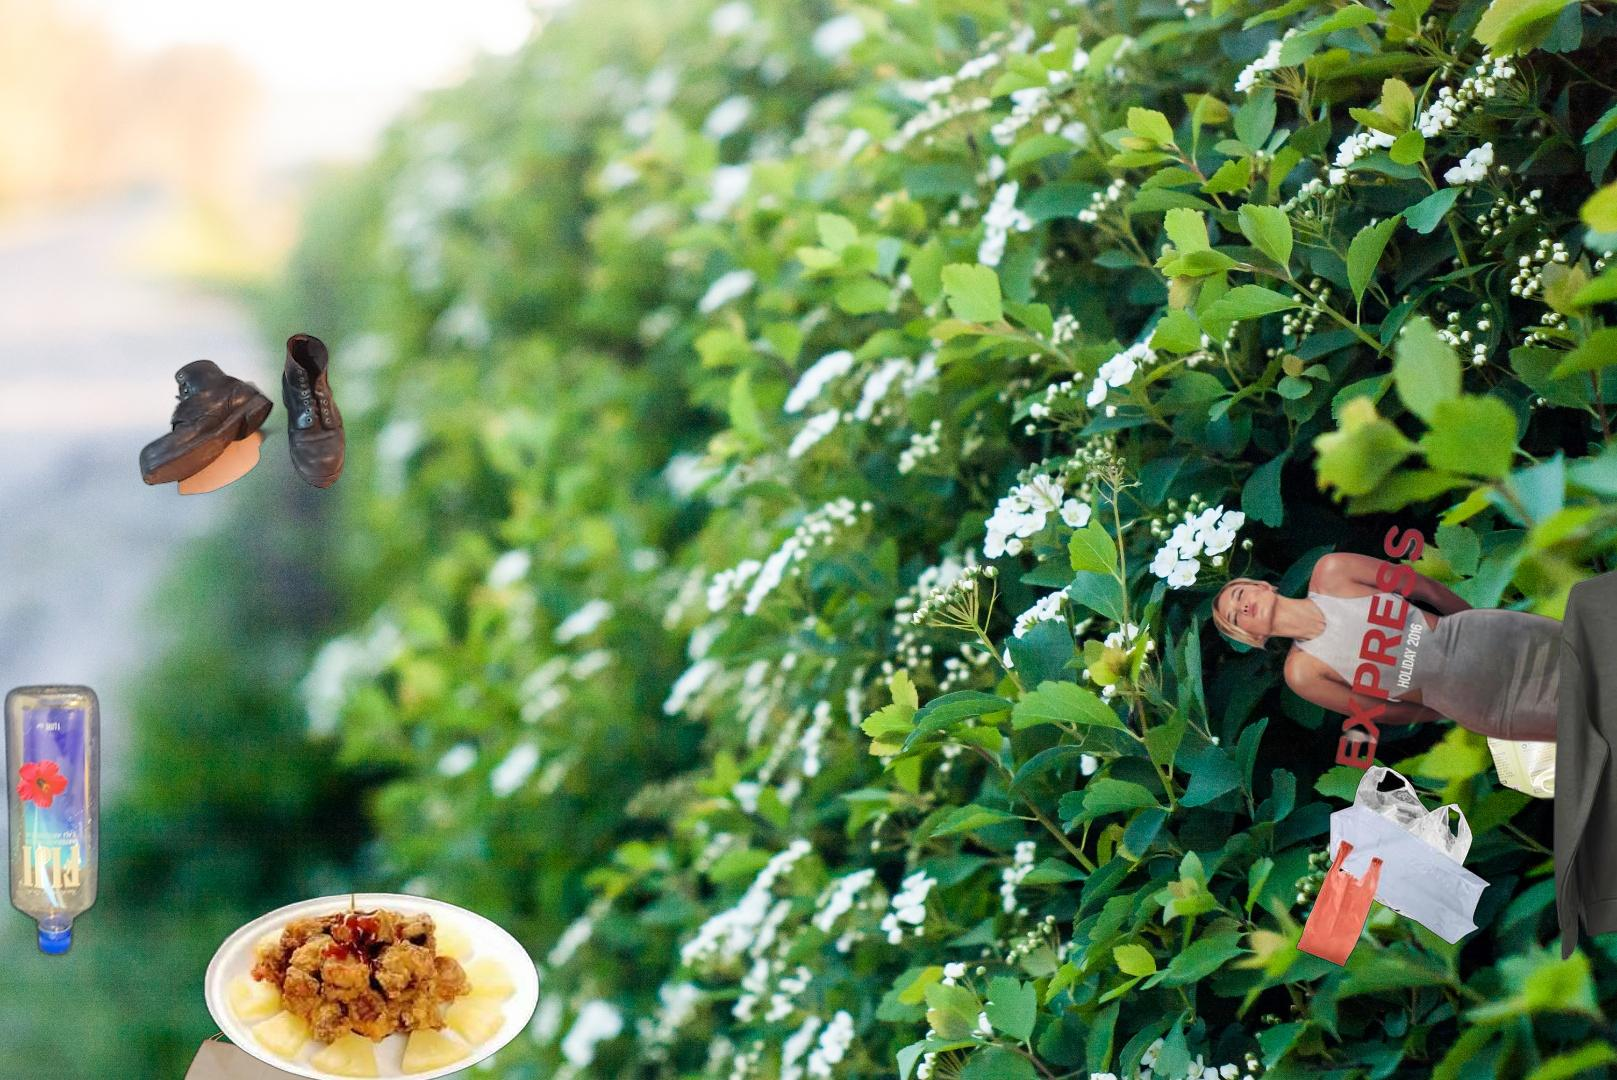biological: (198, 770, 645, 1080)
clothes: (1550, 493, 1617, 967)
metal-cans: (1481, 662, 1617, 805)
paper: (1206, 522, 1617, 856)
paper-bag: (175, 964, 374, 1080)
plastic-bag: (1293, 762, 1493, 970)
plastic-bottles: (1, 680, 104, 959)
shoes: (137, 331, 348, 498)
